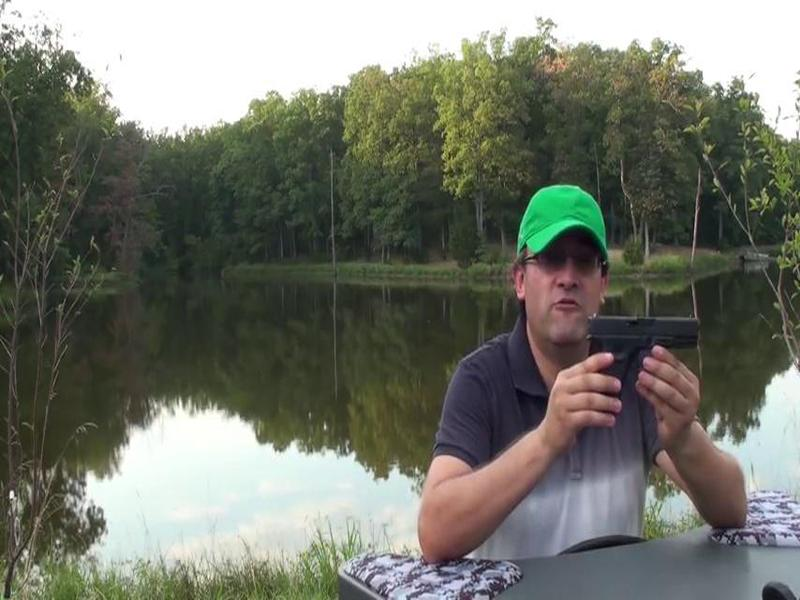Pistola: (572, 304, 710, 416)
